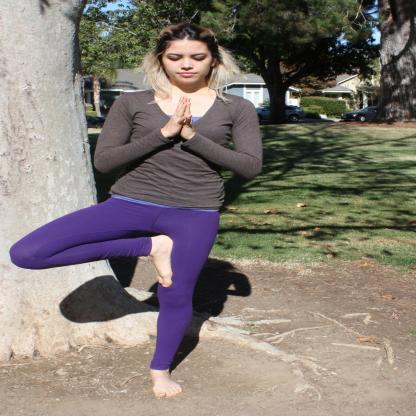tree: (13, 19, 289, 399)
